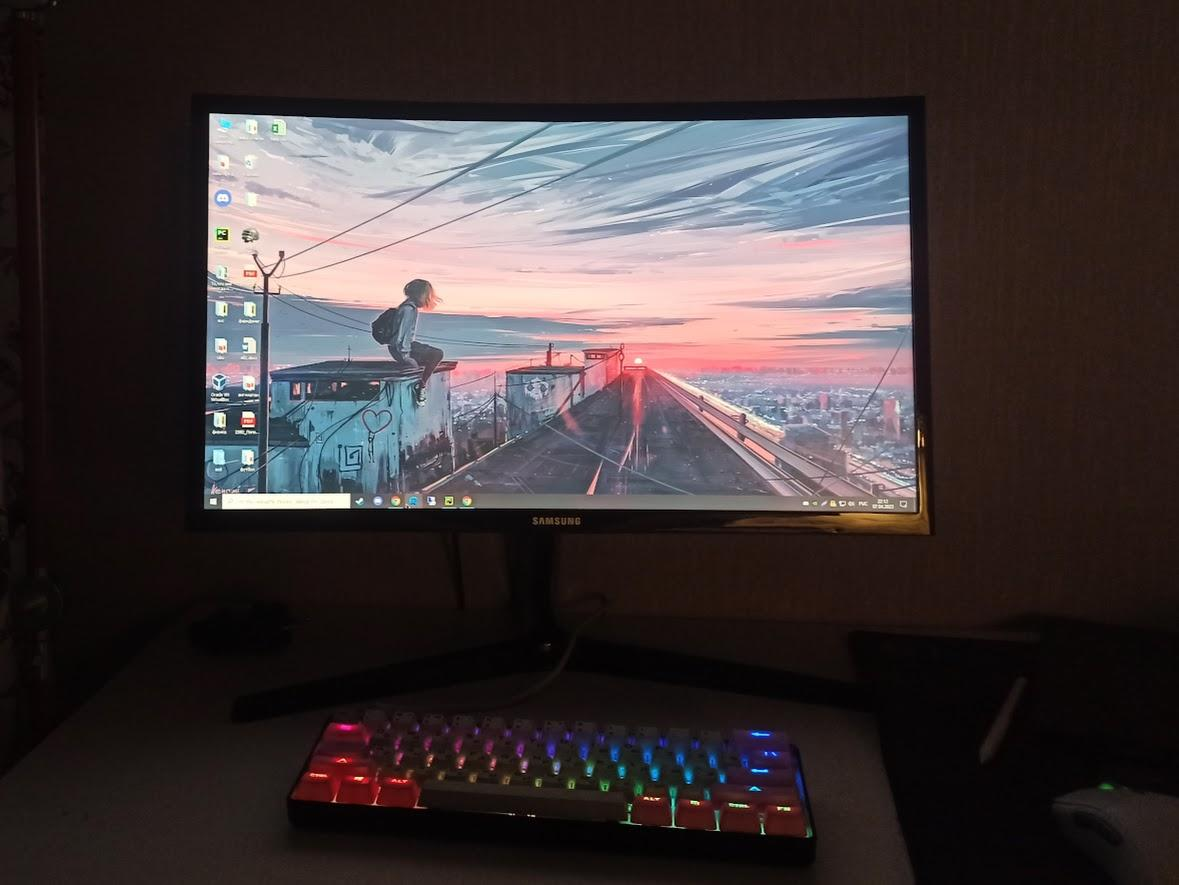monitor: (187, 88, 937, 542)
